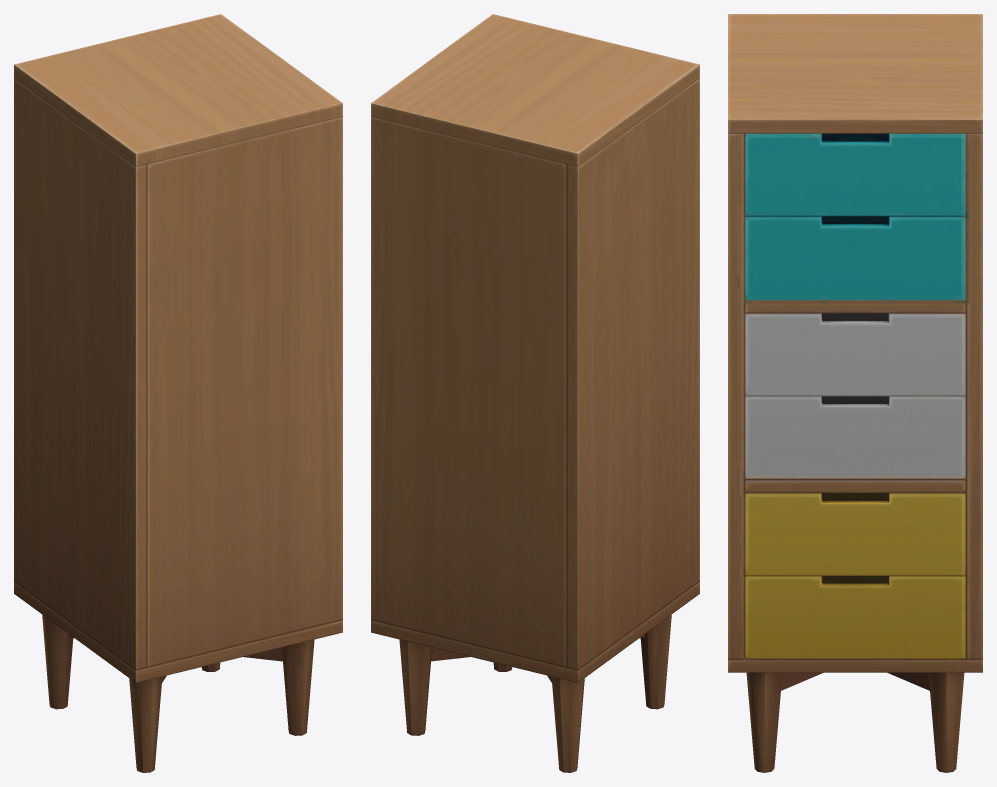
Rendered from PowerTowerDresser.fbx.
3 renders of one model, left to right at view 1: azimuth 30°, elevation 25°; view 2: azimuth 150°, elevation 25°; view 3: azimuth 270°, elevation 25°, orthographic. The views are drawn at different scales.
Visible parts, largest first — view 1: TinyLiving_PowerTowerDresser; view 2: TinyLiving_PowerTowerDresser; view 3: TinyLiving_PowerTowerDresser.
Part boxes in pixels (<box>): TinyLiving_PowerTowerDresser: <box>14,14,342,772</box>; TinyLiving_PowerTowerDresser: <box>371,14,699,772</box>; TinyLiving_PowerTowerDresser: <box>728,14,982,772</box>.
Bounding box in the file's own units: 51.61 × 151 × 52.65.
